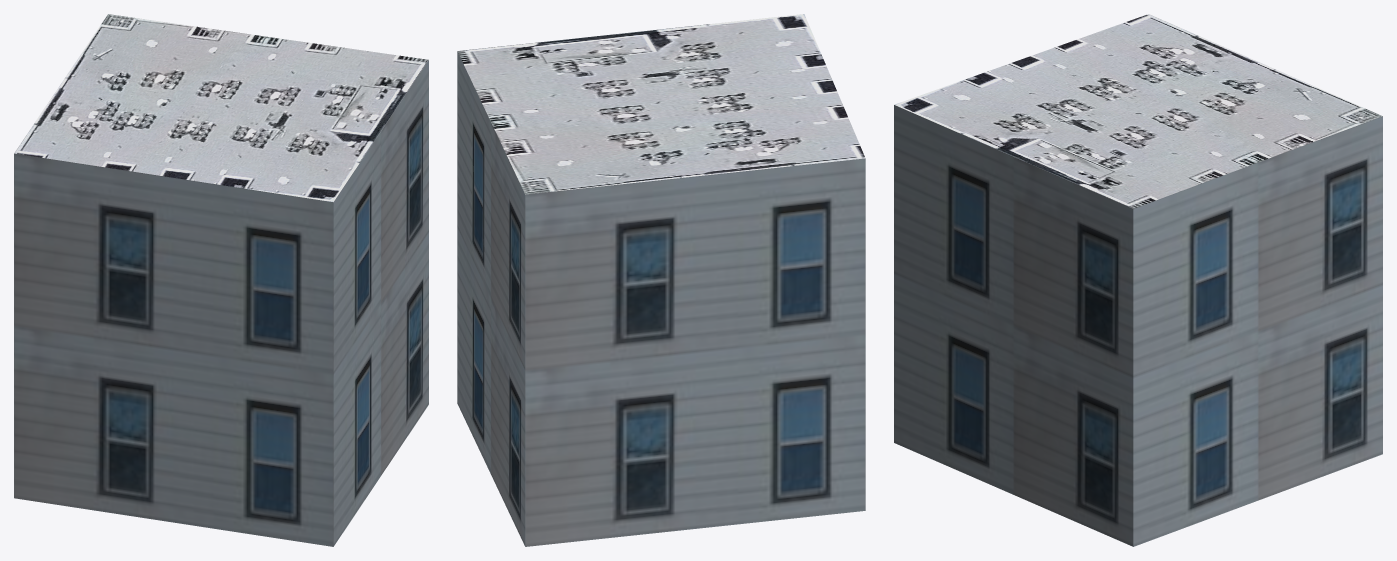
File: ResTex__3072.fbx
3 renders of one model, left to right at view 1: azimuth 30°, elevation 25°; view 2: azimuth 150°, elevation 25°; view 3: azimuth 270°, elevation 25°, orthographic. The views are drawn at different scales.
Visible parts, largest first — view 1: CityEngineMaterial_18_m, CityEngineMaterial_4_m; view 2: CityEngineMaterial_18_m, CityEngineMaterial_4_m; view 3: CityEngineMaterial_18_m, CityEngineMaterial_4_m.
Boxes of the visible parts, x1=… form: CityEngineMaterial_18_m: x1=14, y1=60, x2=428, y2=546; CityEngineMaterial_4_m: x1=14, y1=14, x2=428, y2=202; CityEngineMaterial_18_m: x1=457, y1=51, x2=865, y2=546; CityEngineMaterial_4_m: x1=457, y1=14, x2=865, y2=194; CityEngineMaterial_18_m: x1=894, y1=105, x2=1382, y2=546; CityEngineMaterial_4_m: x1=894, y1=14, x2=1382, y2=208.
Size of the model in its own units: 7.42 by 6 by 7.86.
Materials: 2 (2 with a texture image).
